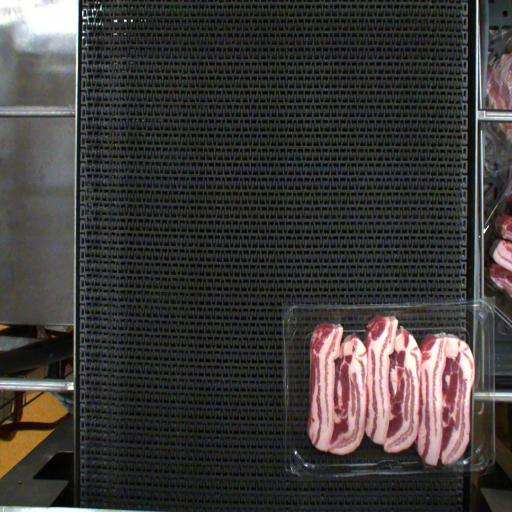packaging-error: (370, 309, 399, 319), (327, 310, 343, 327)
